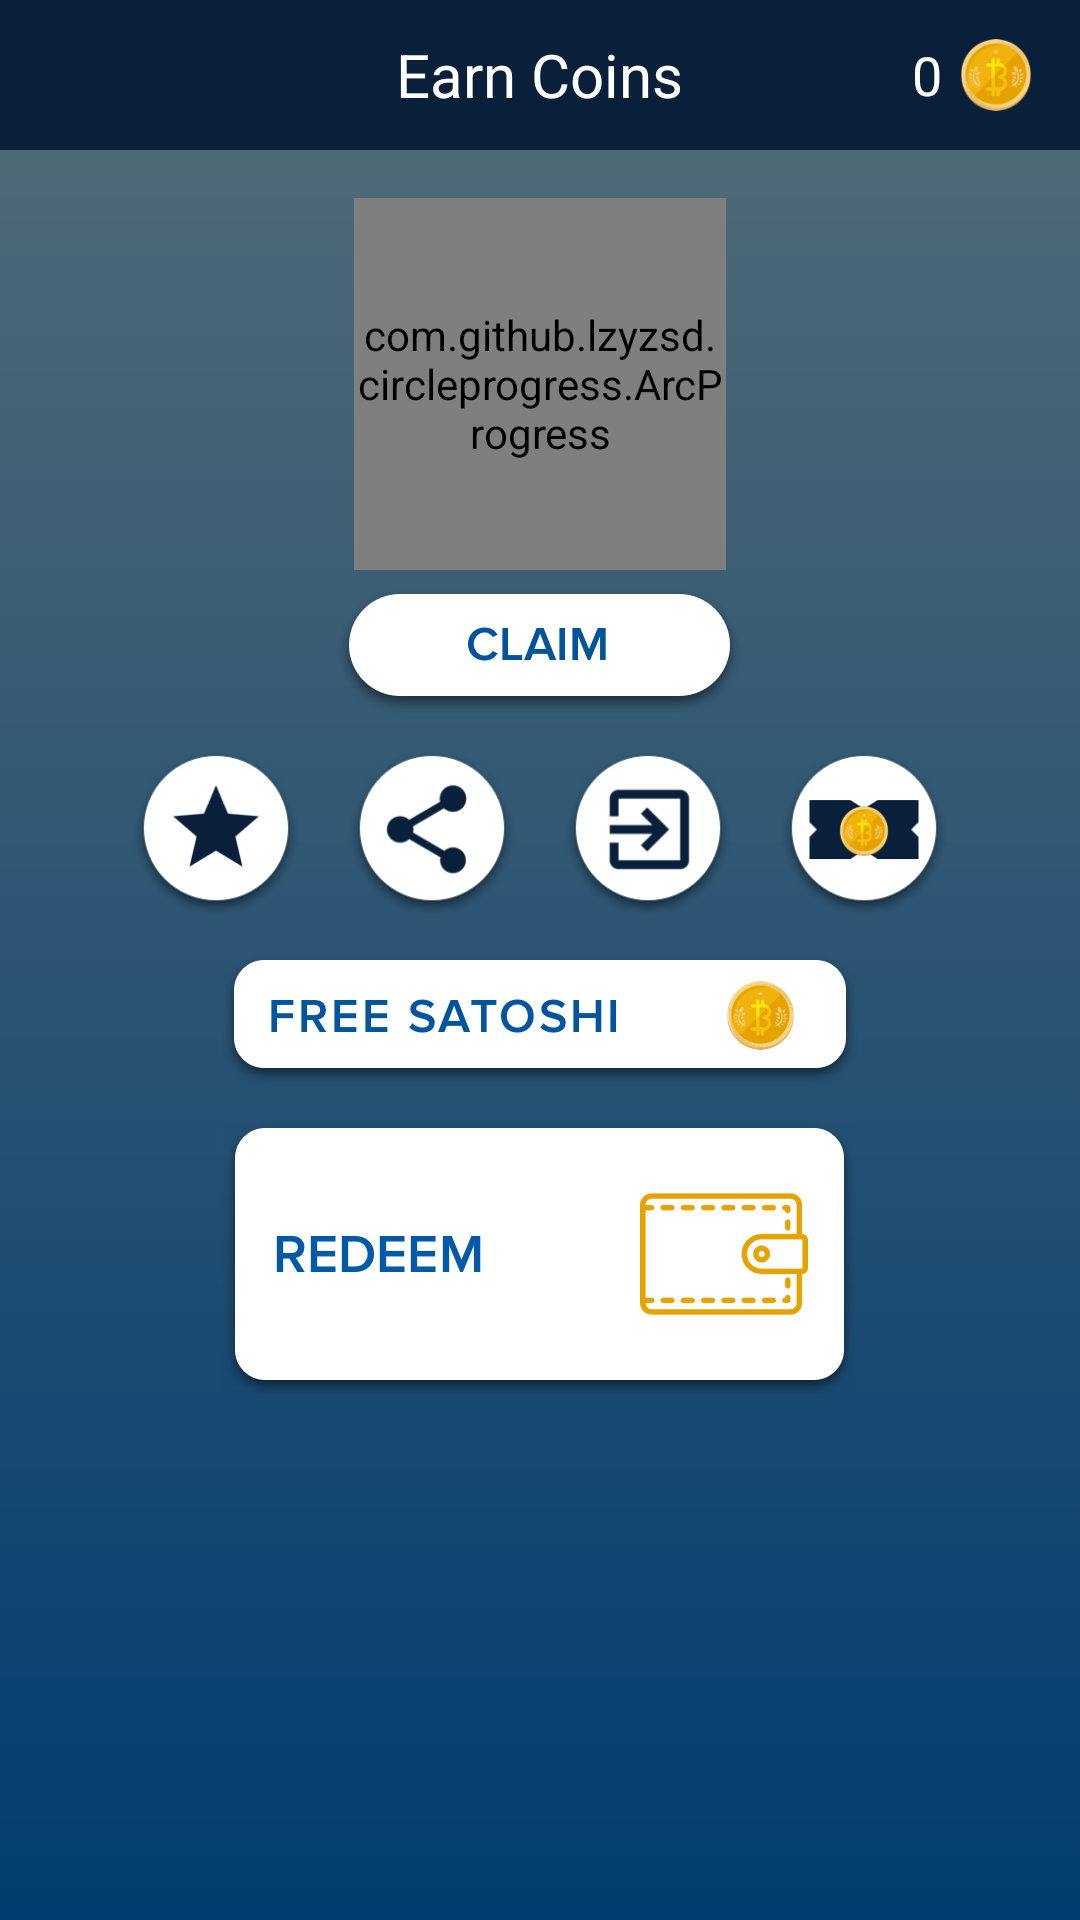

Icons on this 1080px x 1920px Android screen, each with the point to tap as (x,y):
log out: (648,831)
rate us: (216,831)
share: (432,831)
